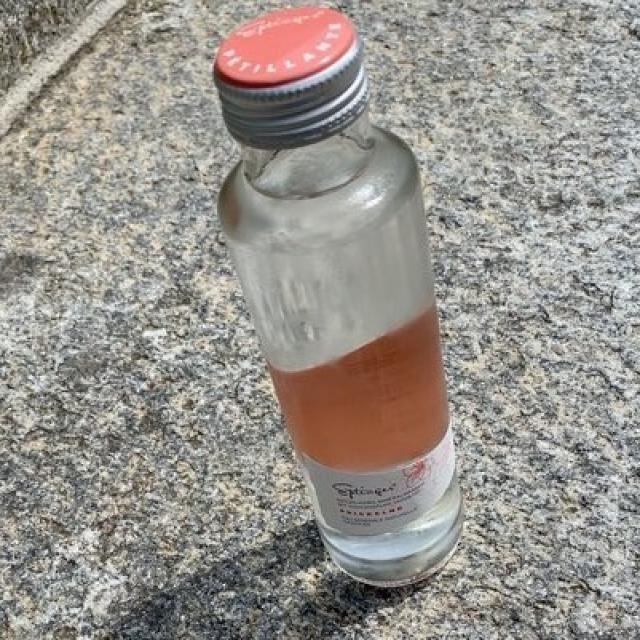water: (228, 134, 438, 371)
